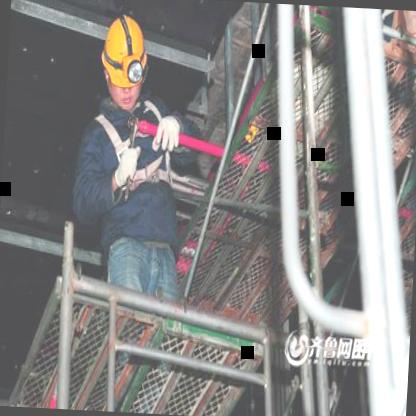helmet: (98, 6, 150, 118)
